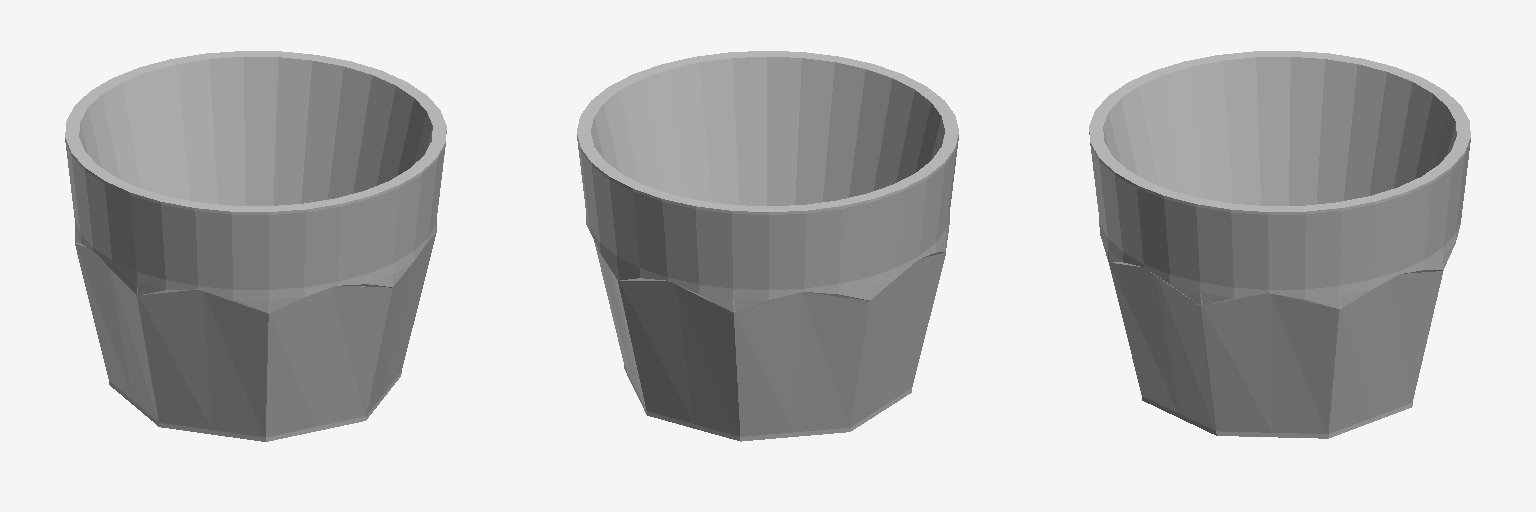
Rendered from Glass_2.obj.
The picture shows the model from 3 angles: view 1: azimuth 30°, elevation 25°; view 2: azimuth 150°, elevation 25°; view 3: azimuth 270°, elevation 25°; orthographic projection.
Parts seen in each view (by area): view 1: Glass_2_Cylinder.001; view 2: Glass_2_Cylinder.001; view 3: Glass_2_Cylinder.001.
Part boxes in pixels (left/top/right/bottom): Glass_2_Cylinder.001: left=65, top=51, right=446, bottom=441; Glass_2_Cylinder.001: left=577, top=51, right=958, bottom=441; Glass_2_Cylinder.001: left=1089, top=51, right=1470, bottom=438.
Bounding box in the file's own units: 0.0929 × 0.0668 × 0.0929.